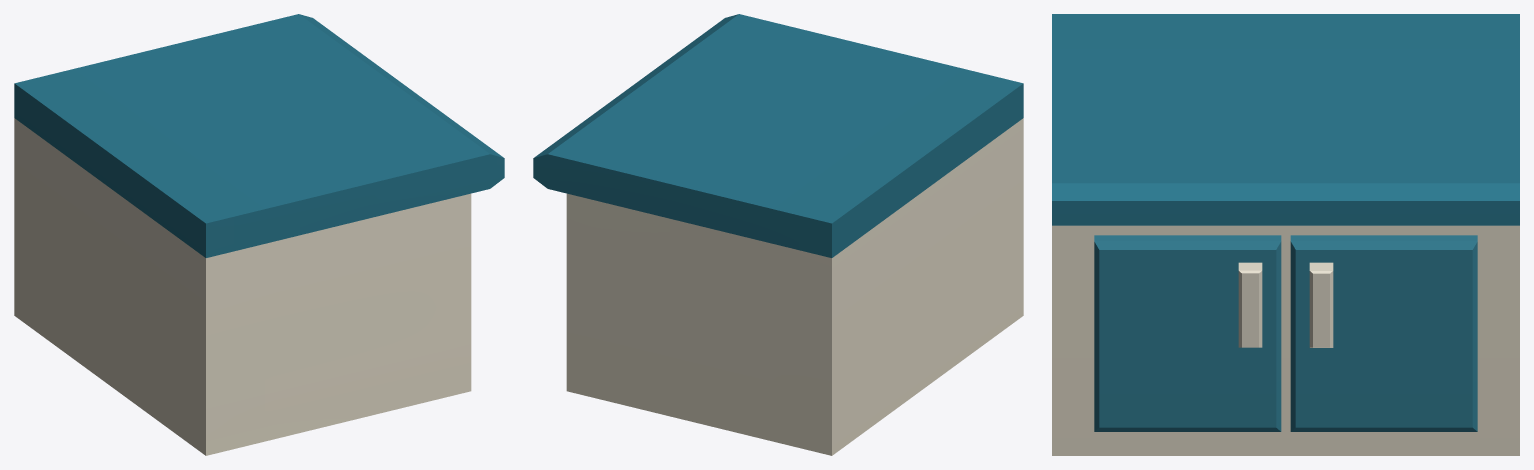
Rendered from Cabinet3.glb.
3 views of the same model, side by side, from view 1: azimuth 30°, elevation 25°; view 2: azimuth 150°, elevation 25°; view 3: azimuth 270°, elevation 25° (orthographic). The views are drawn at different scales.
Visible parts, largest first — view 1: Cabinet3; view 2: Cabinet3; view 3: Cabinet3.
Part boxes in pixels (x1,y1,x2,y2): Cabinet3: (14,14,504,455); Cabinet3: (533,14,1023,455); Cabinet3: (1052,14,1519,455).
Bounding box in the file's own units: 0.9 × 0.6696 × 1.
Materials: 1 (1 with a texture image).
